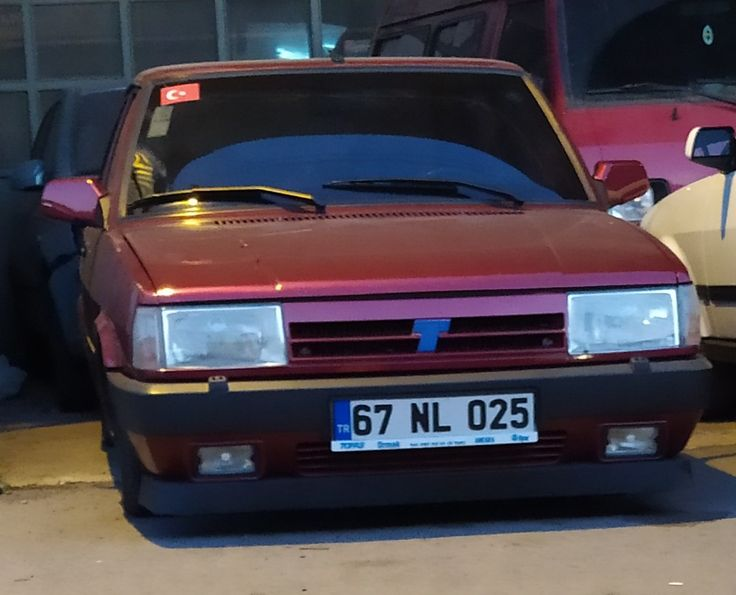plate: (332, 394, 534, 452)
